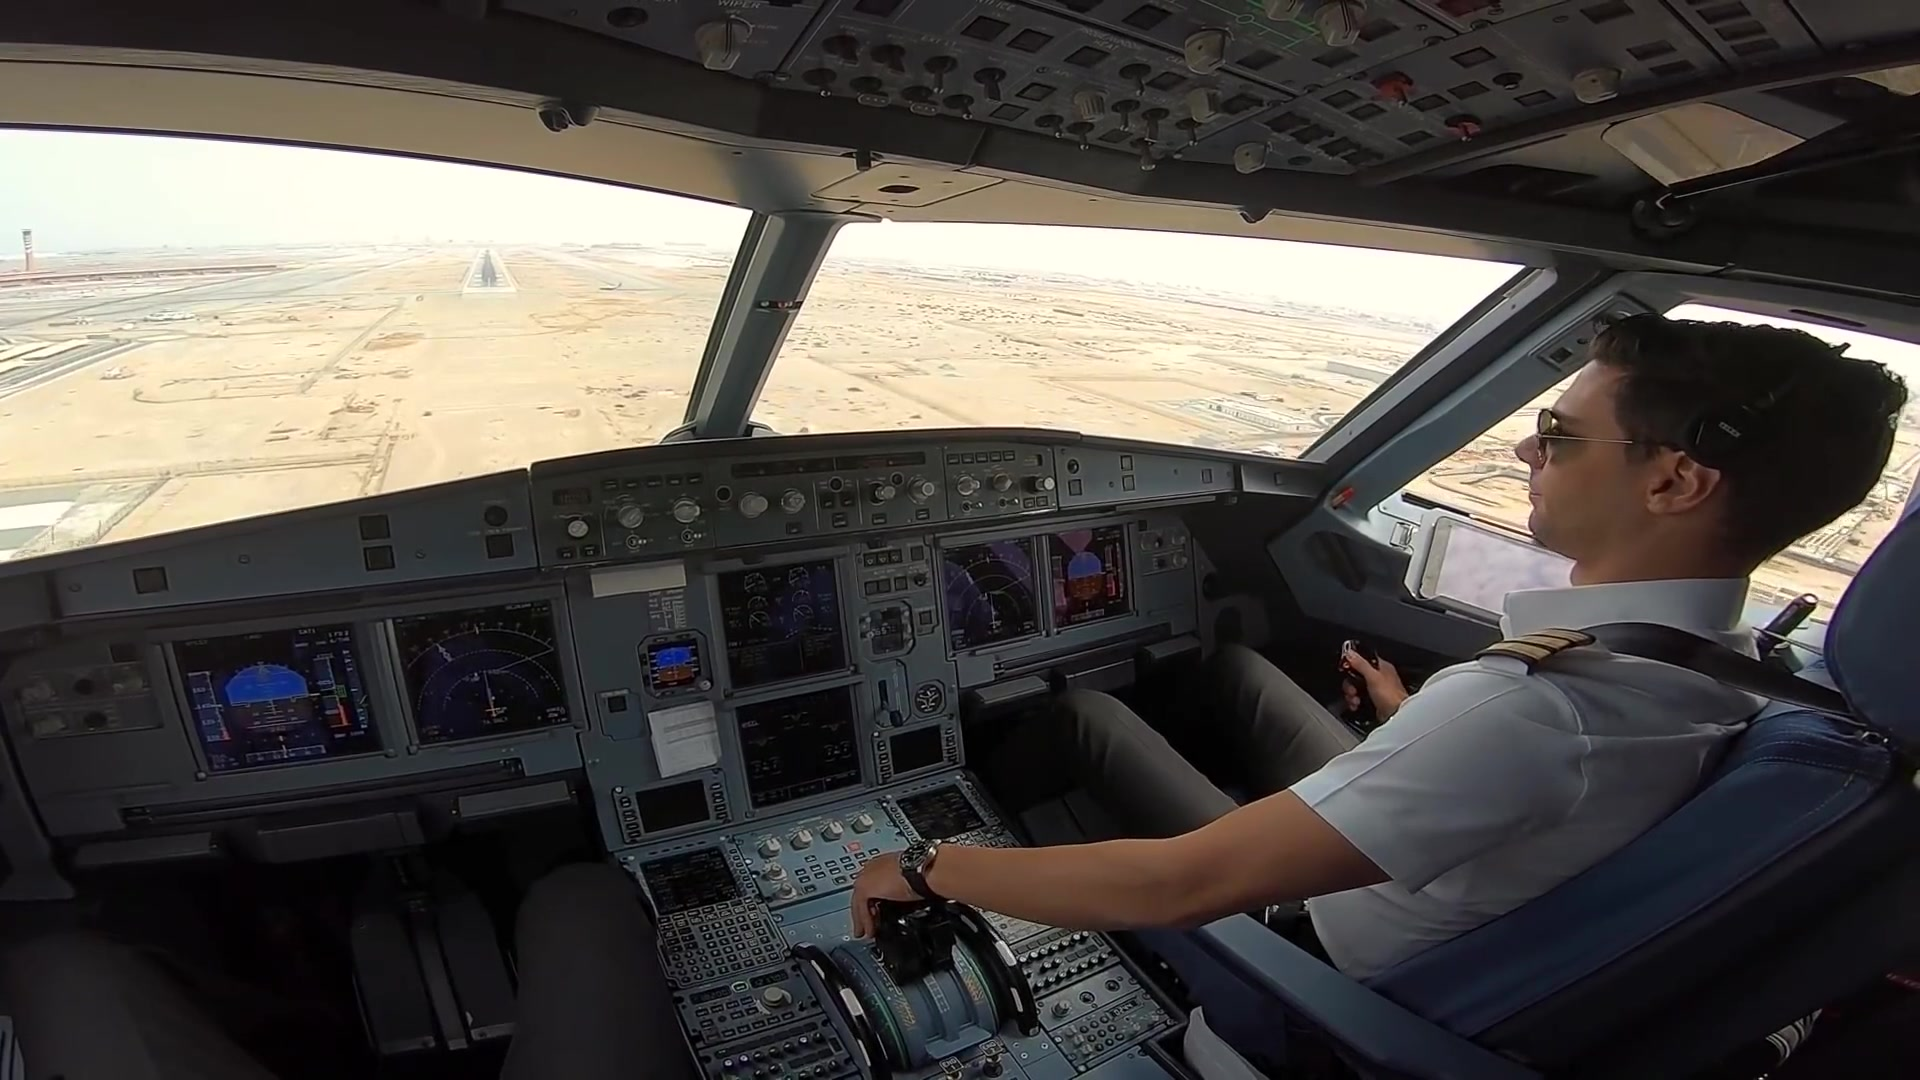runway: (462, 247, 518, 295)
